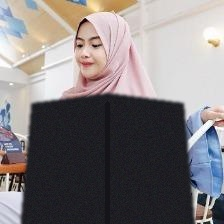Cadar_Niqab: (21, 7, 194, 224)
